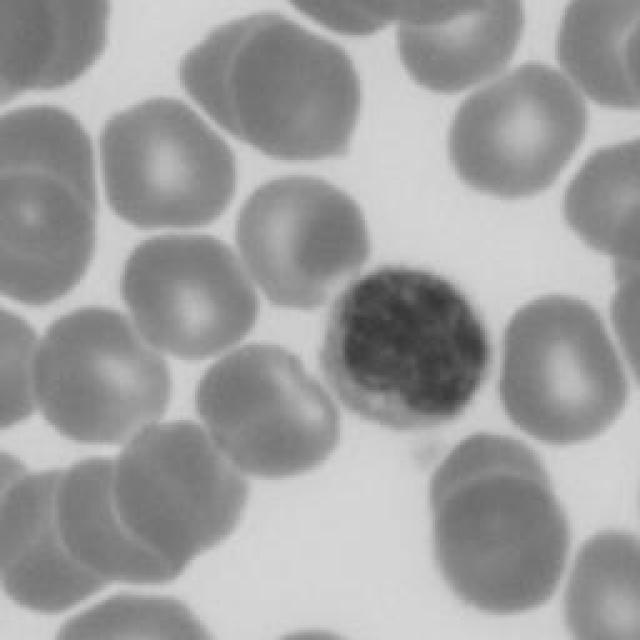RBC: (198, 342, 338, 480), (496, 297, 626, 445), (32, 312, 172, 446), (447, 65, 585, 200), (238, 175, 372, 310), (60, 448, 188, 588), (119, 233, 254, 365), (230, 27, 358, 165), (119, 420, 246, 558), (435, 483, 567, 615), (100, 104, 230, 228), (180, 12, 300, 140), (0, 465, 102, 615), (0, 175, 92, 305), (399, 6, 529, 94), (0, 106, 95, 226), (421, 436, 549, 524), (562, 142, 640, 258), (557, 0, 640, 105), (5, 5, 107, 90), (565, 527, 640, 640), (57, 592, 215, 640), (1, 314, 46, 431), (0, 0, 50, 100), (605, 265, 640, 385), (290, 0, 395, 40)
WBC: (321, 268, 489, 432)
